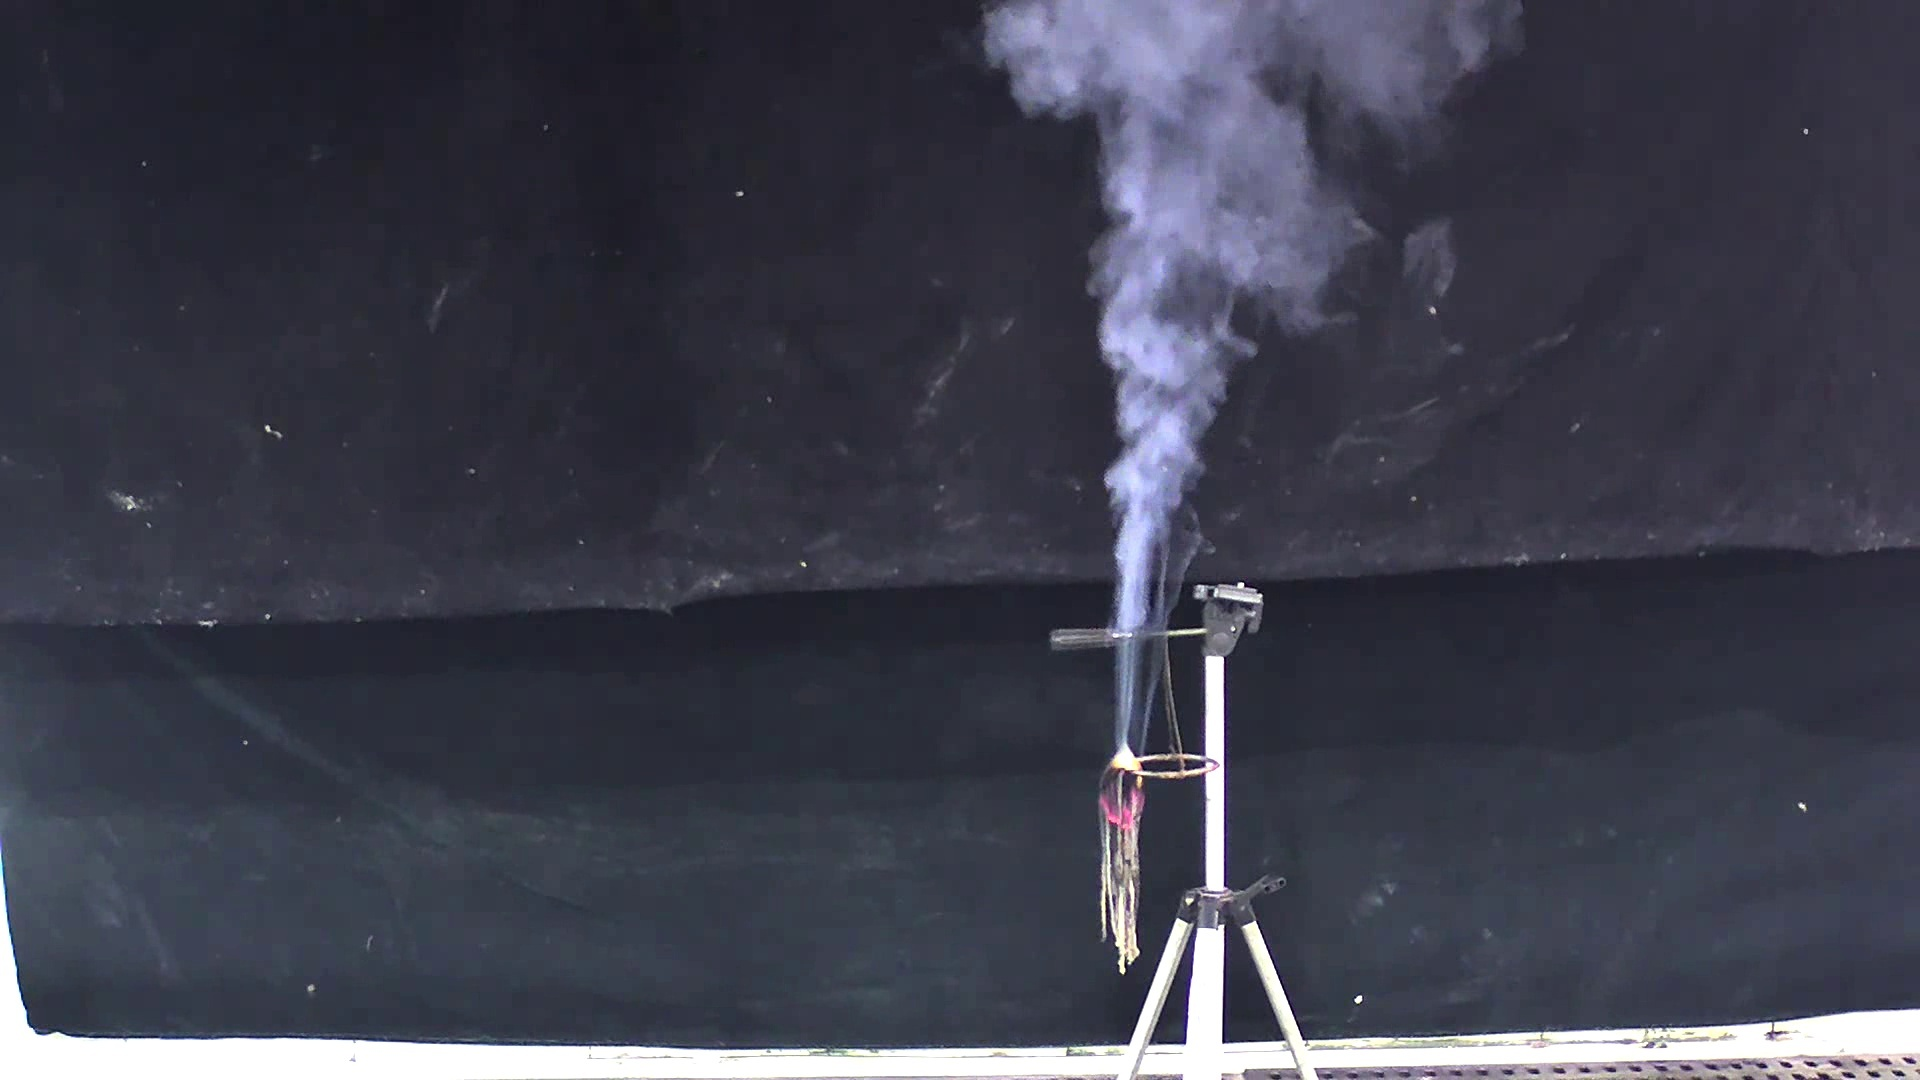smoke: (1000, 1, 1437, 746)
